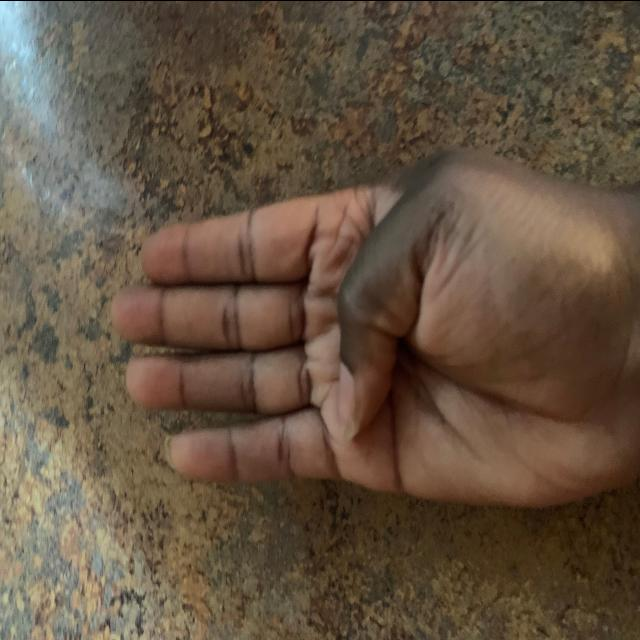B: (104, 135, 640, 520)
